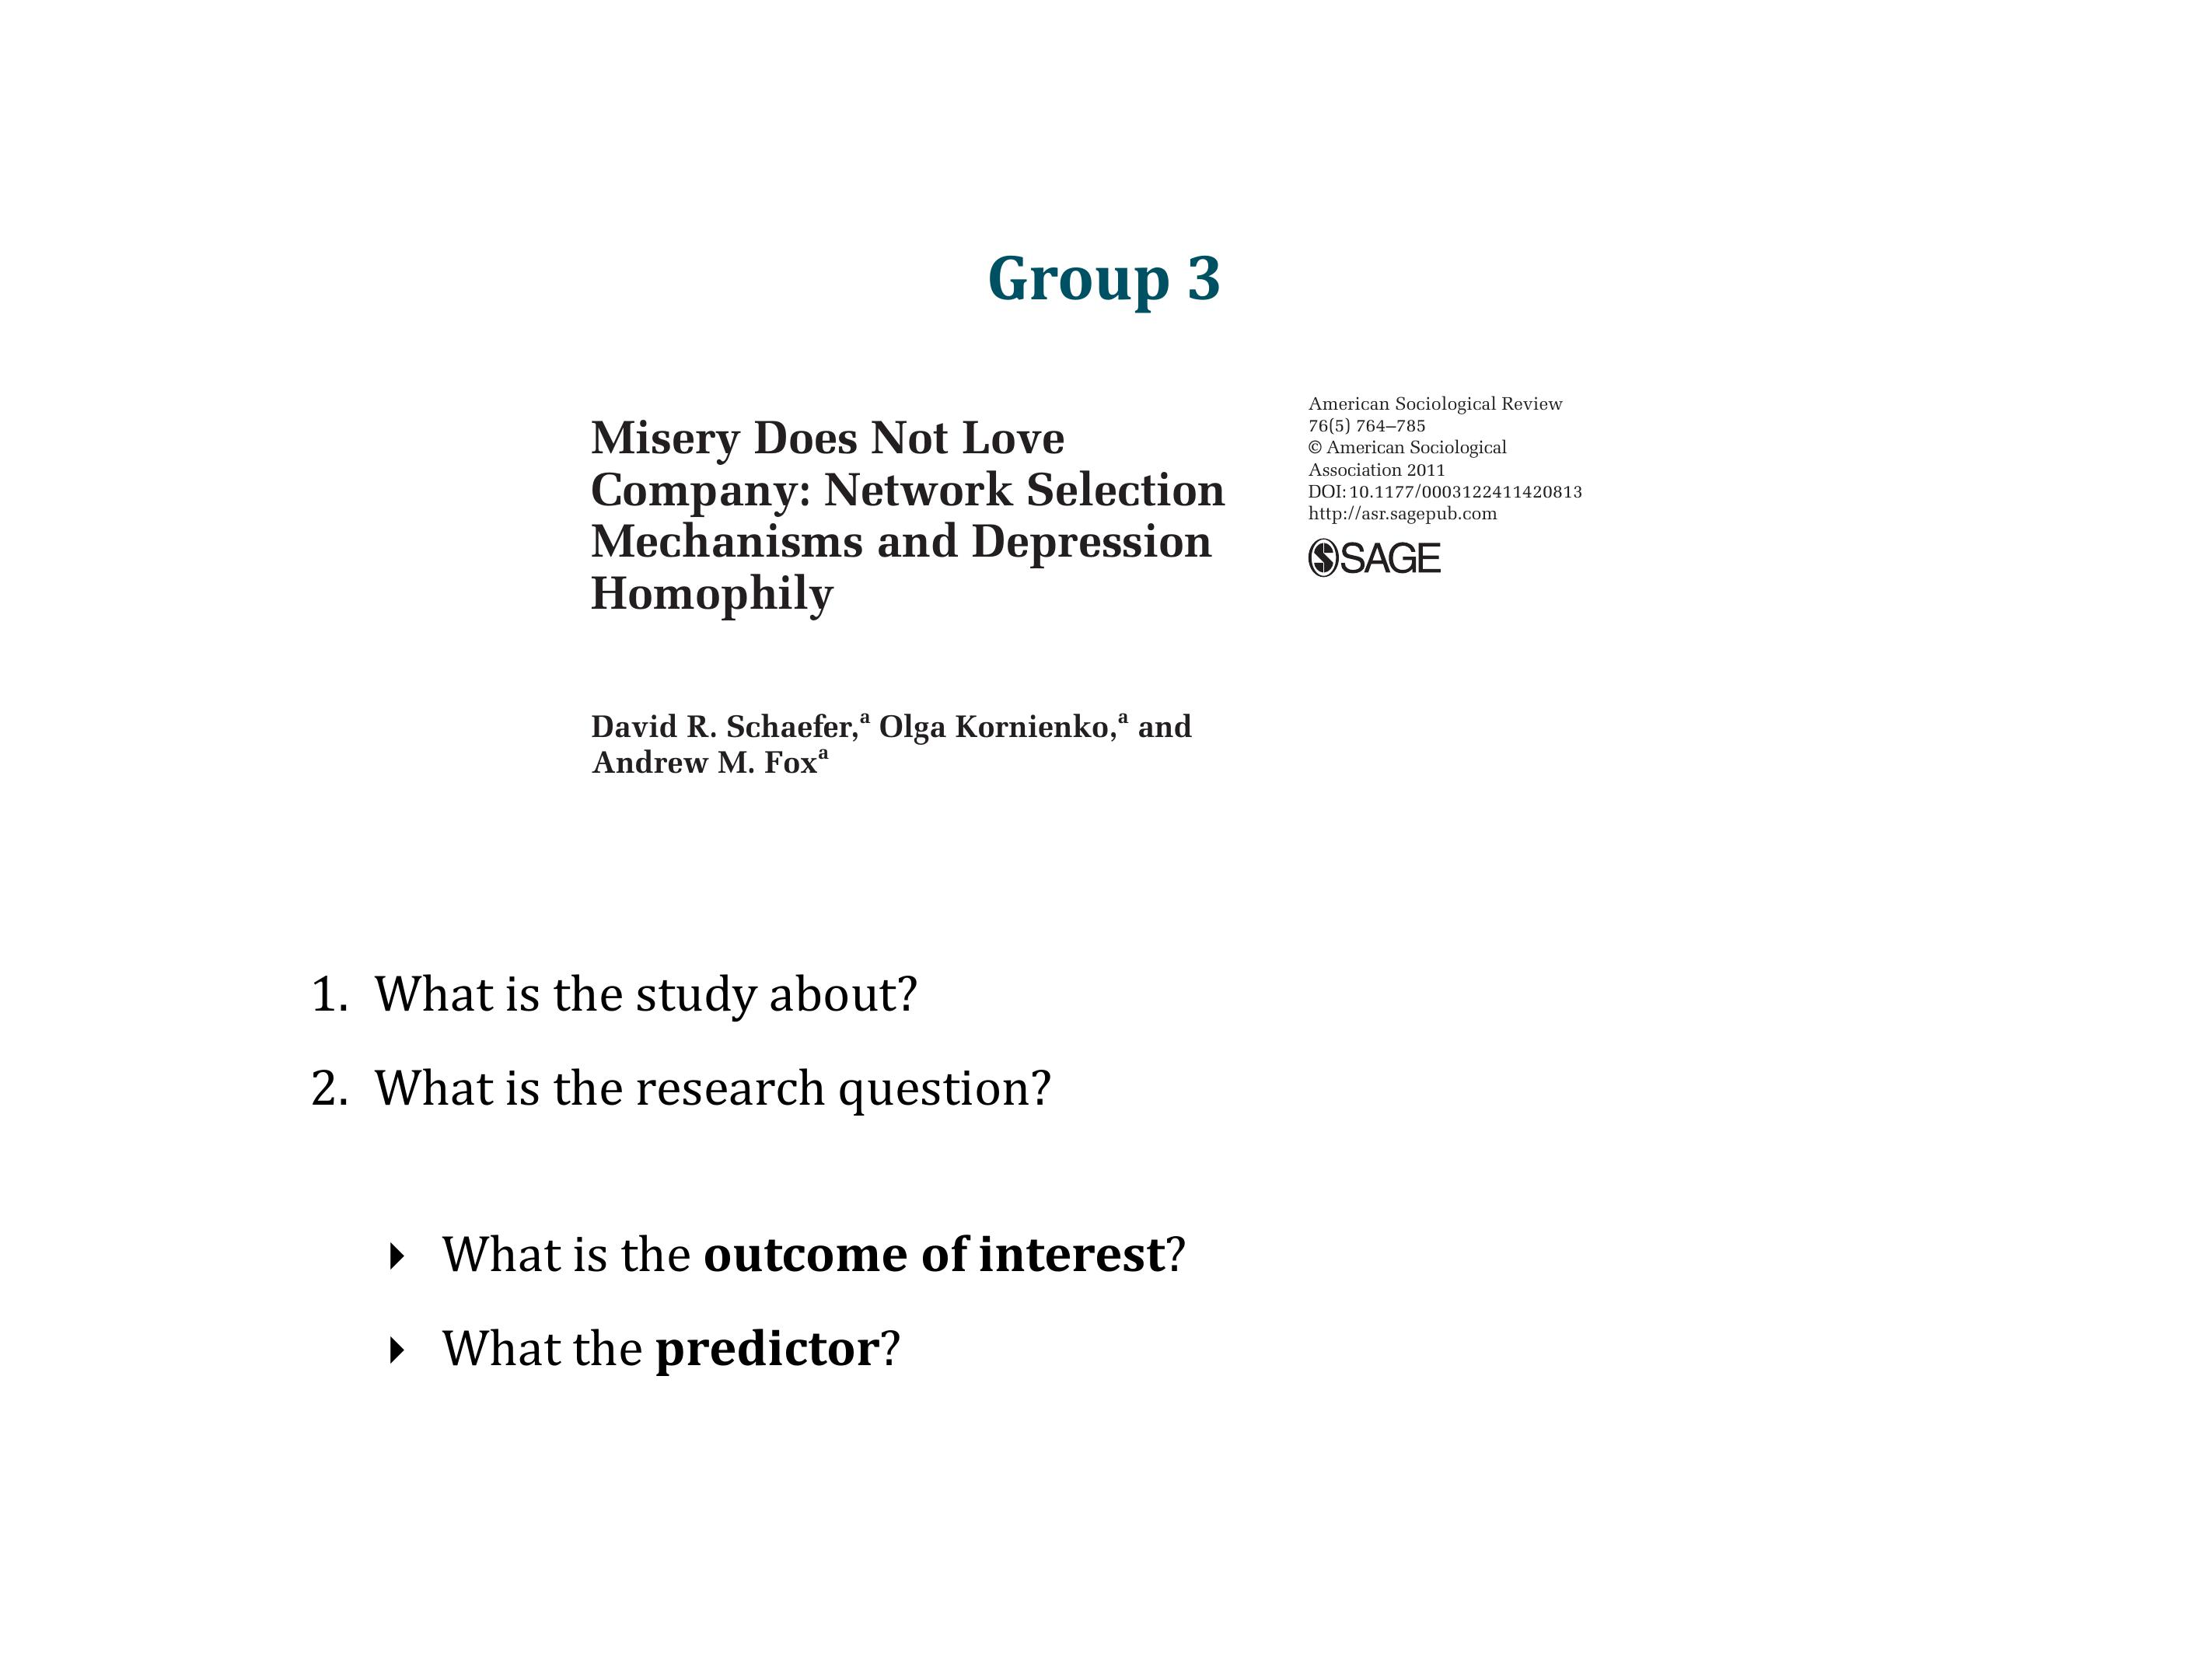Title: (980, 237, 1245, 324)
